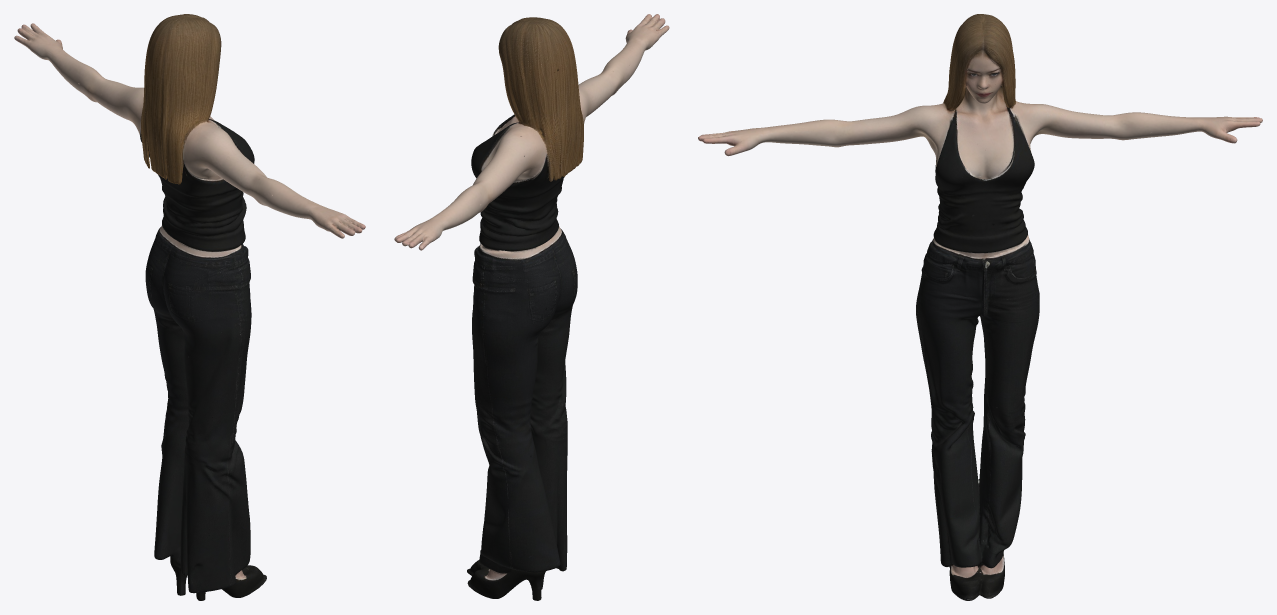
The model's file is tripo_convert_5cc79c8a-c6e1-44c1-b0df-1fe6481bc197.fbx.
3 views of the same model, side by side, from view 1: azimuth 30°, elevation 25°; view 2: azimuth 150°, elevation 25°; view 3: azimuth 270°, elevation 25° (orthographic). The views are drawn at different scales.
Visible parts, largest first — view 1: tripo_node_5cc79c8a; view 2: tripo_node_5cc79c8a; view 3: tripo_node_5cc79c8a.
Boxes of the visible parts, box(x1,y1,x2,y2) form: tripo_node_5cc79c8a: box(14, 14, 365, 600); tripo_node_5cc79c8a: box(394, 14, 669, 600); tripo_node_5cc79c8a: box(698, 14, 1262, 600).
Size of the model in its own units: 0.2009 by 1 by 0.9276.
Materials: 1 (1 with a texture image).
